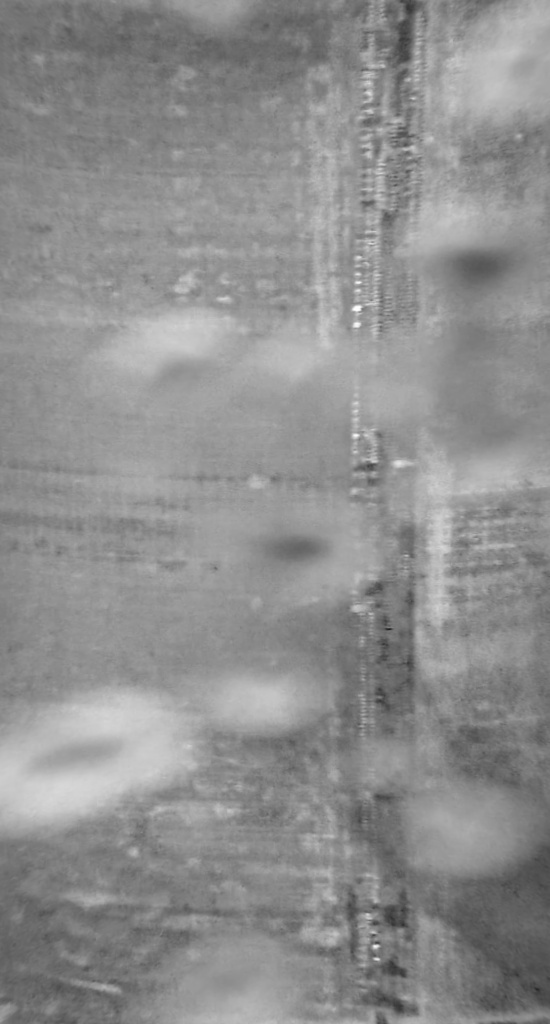splice: (332, 1, 429, 1022)
